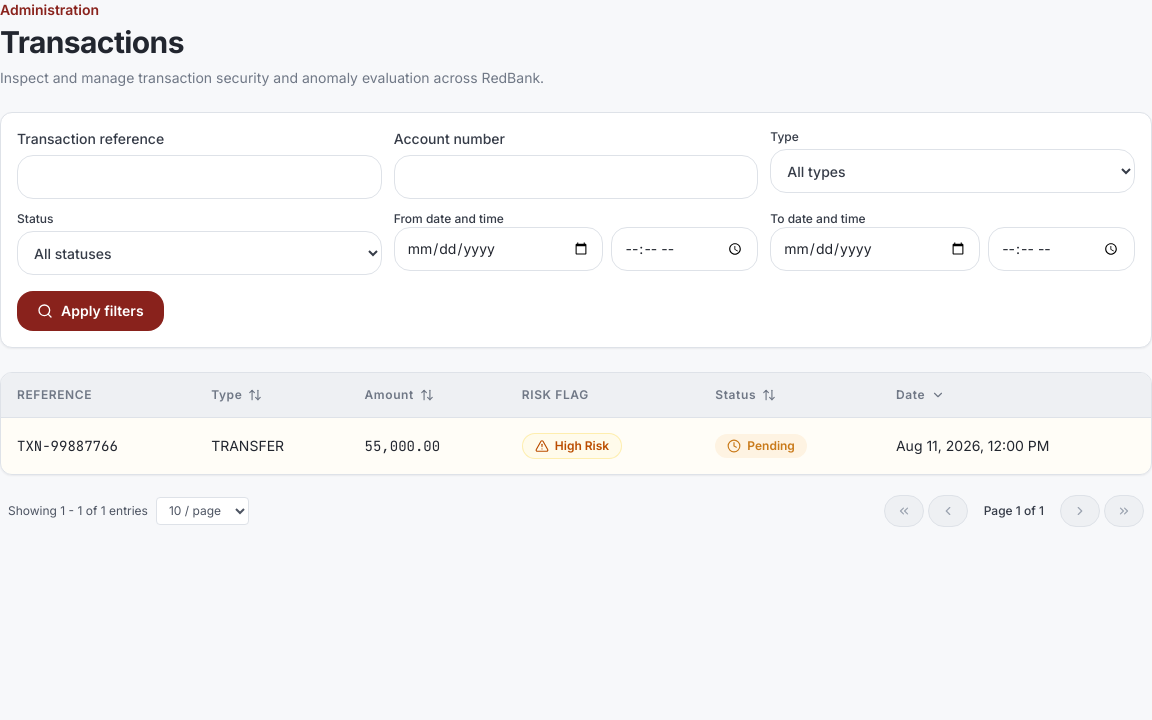
Test: TransactionsPage › renders transactions with anomaly risk badges and detail modal
This screenshot has width=1152, height=720.
Expected: the text "High Risk" is shown, [555, 438, 609, 454]
Click the text "TXN-99887766" at (98, 446), box [1, 418, 195, 474]
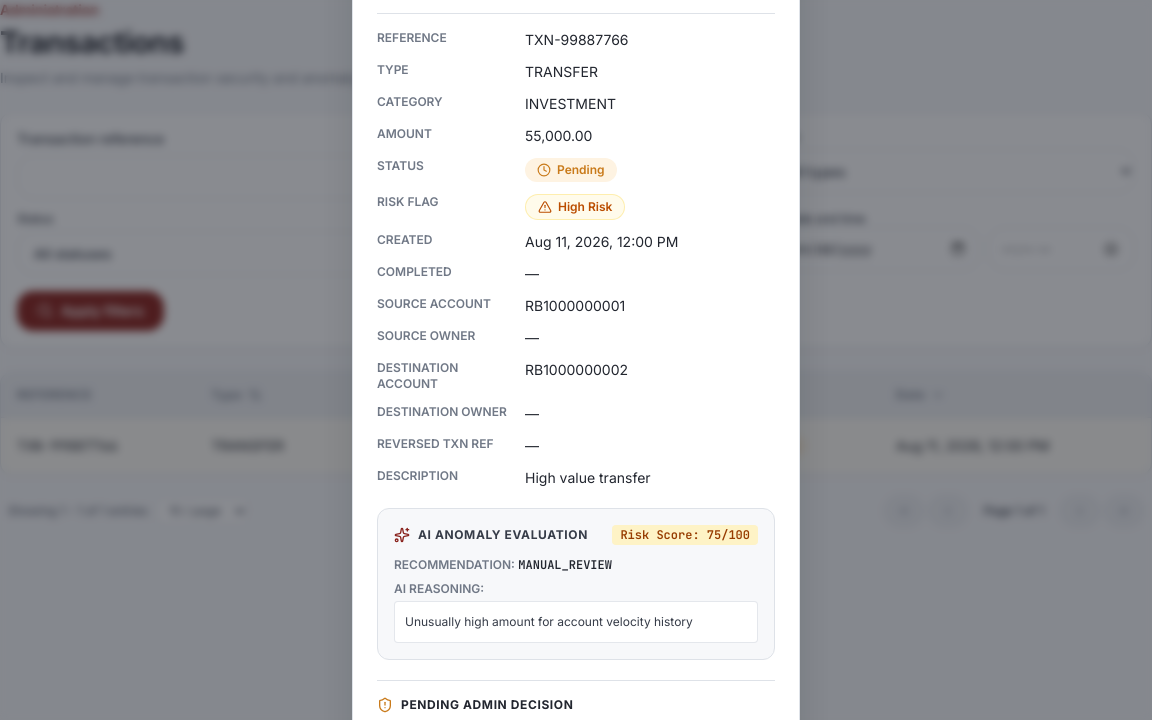
Expected: the text "Unusually high amount for account velocity history" is shown, [394, 601, 758, 643]
Expected: the text "Risk Score: 75/100" is shown, [612, 525, 758, 545]
